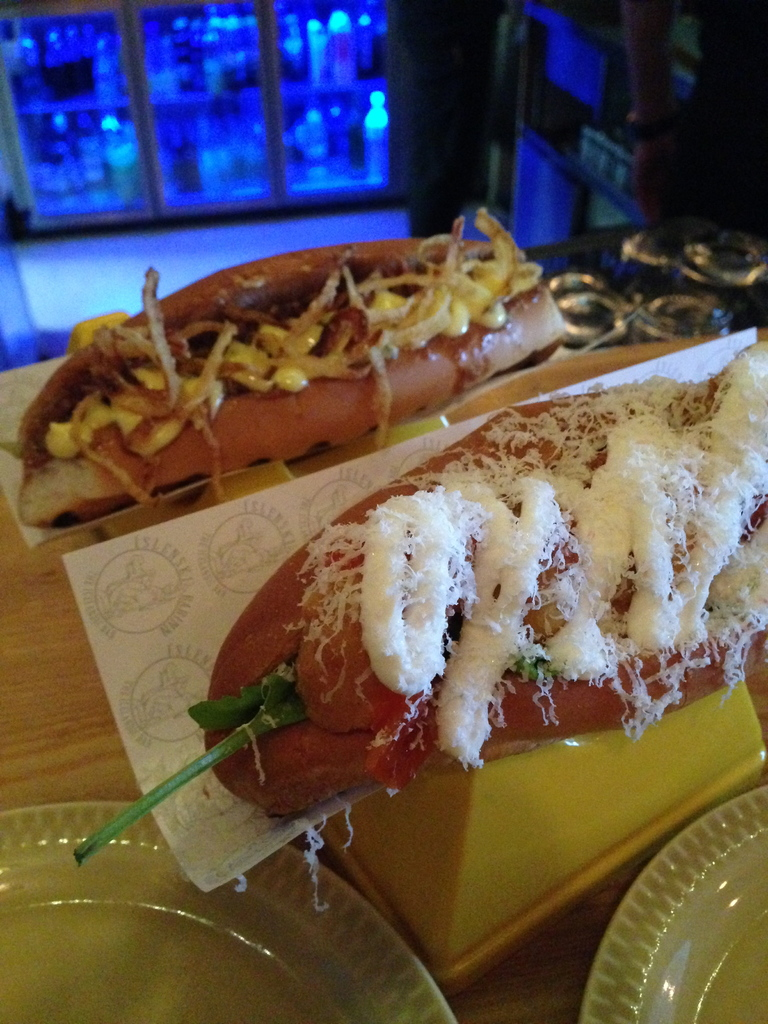sandwich: (198, 344, 767, 822), (19, 204, 573, 531)
